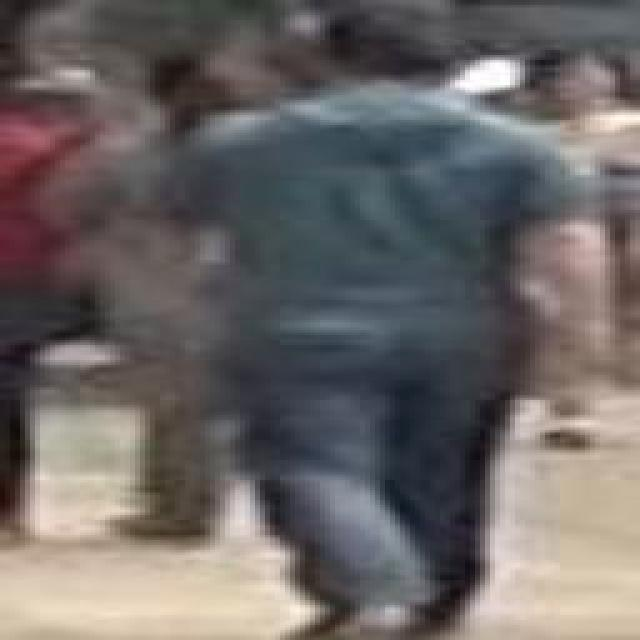adult: (191, 18, 540, 640), (496, 39, 636, 446), (0, 0, 106, 508), (89, 8, 111, 9)
